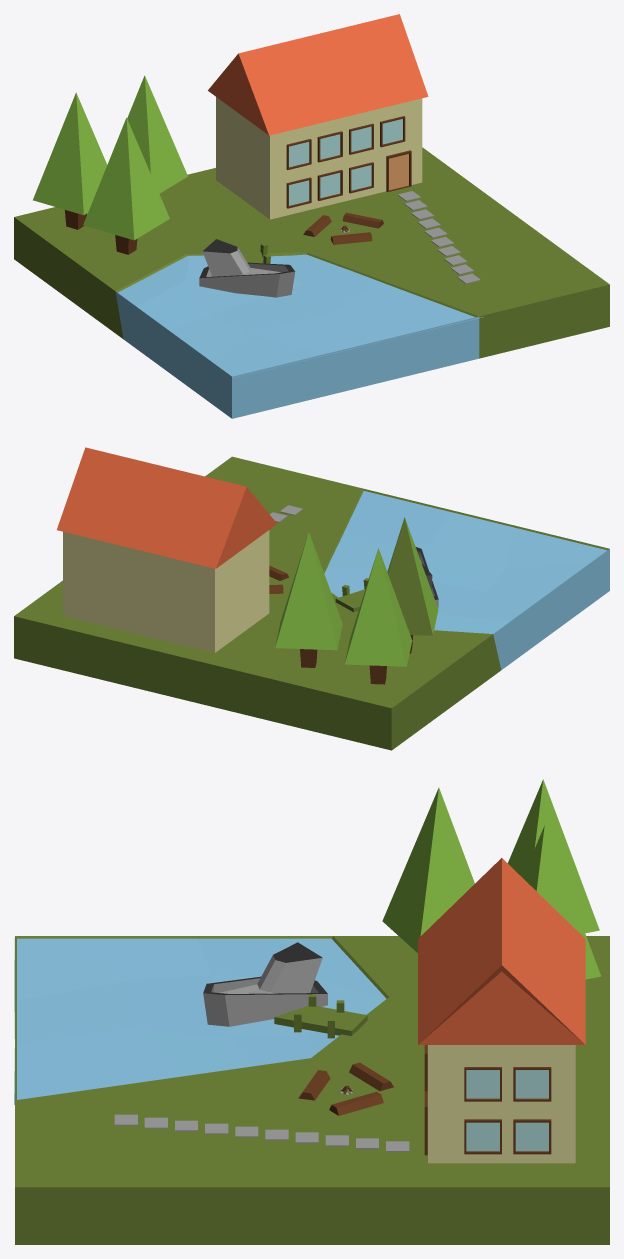
File: ferias.fbx
3 views of the same model, one above another, from view 1: azimuth 30°, elevation 25°; view 2: azimuth 150°, elevation 25°; view 3: azimuth 270°, elevation 25° (orthographic). The views are drawn at different scales.
Parts seen in each view (by area): view 1: ferias; view 2: ferias; view 3: ferias.
Part boxes in pixels (x1,y1,x2,y2): ferias: (14,14,609,418); ferias: (14,447,609,750); ferias: (14,779,609,1244).
Bounding box in the file's own units: 200 × 96 × 200.
